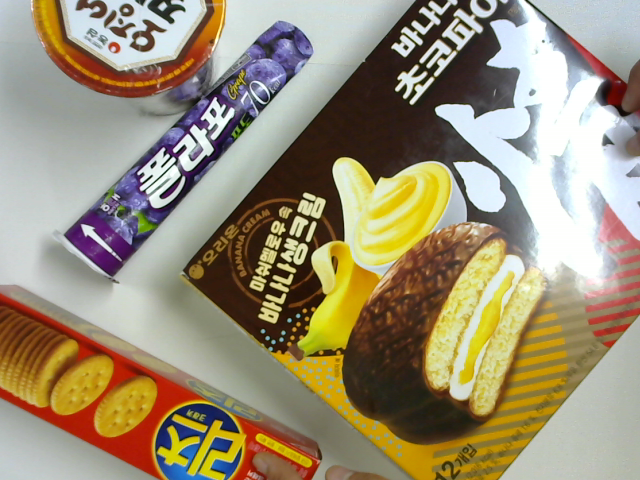Choco_Pie_Banana: (180, 1, 640, 479)
Ojjam: (25, 1, 228, 110)
Polapo_Grape: (54, 21, 313, 284)
Ritz_Cracker: (1, 278, 323, 480)
